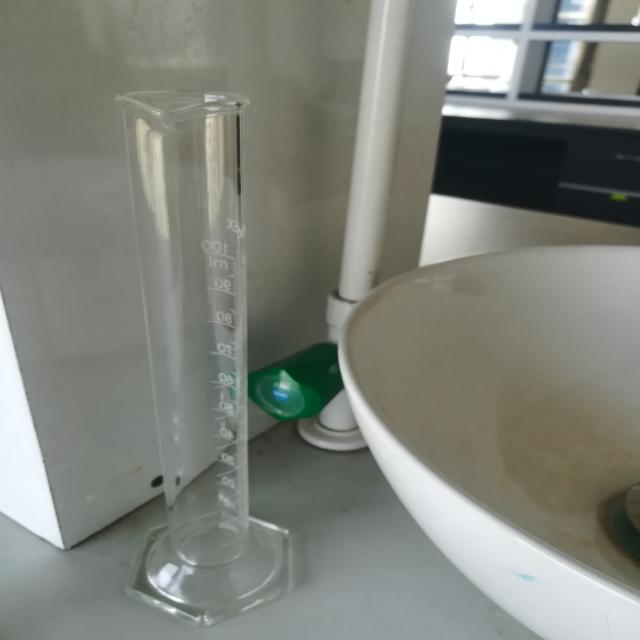Measuring_Cylinder: (91, 61, 344, 640)
